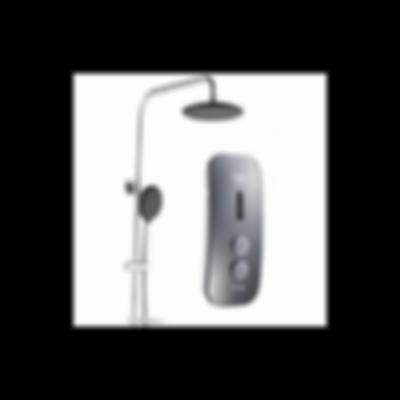Ducha: (111, 74, 287, 326)
